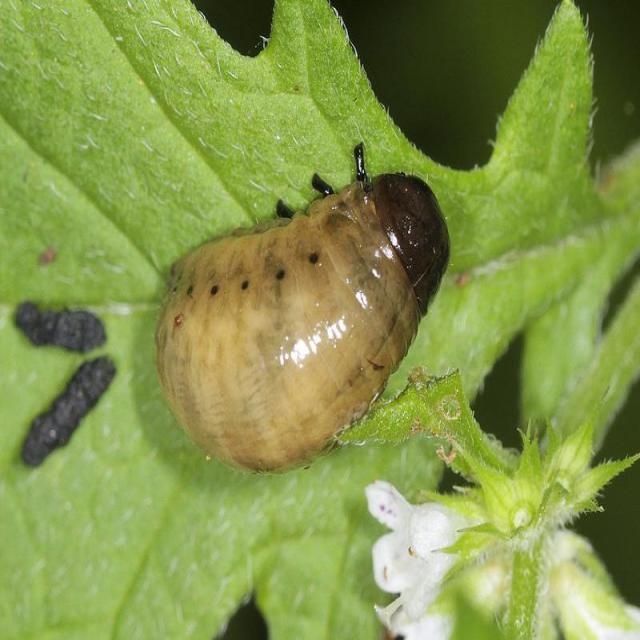Grub-Adult-: (158, 145, 456, 479)
